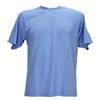abbigliamento_uomo: (7, 5, 90, 98)
